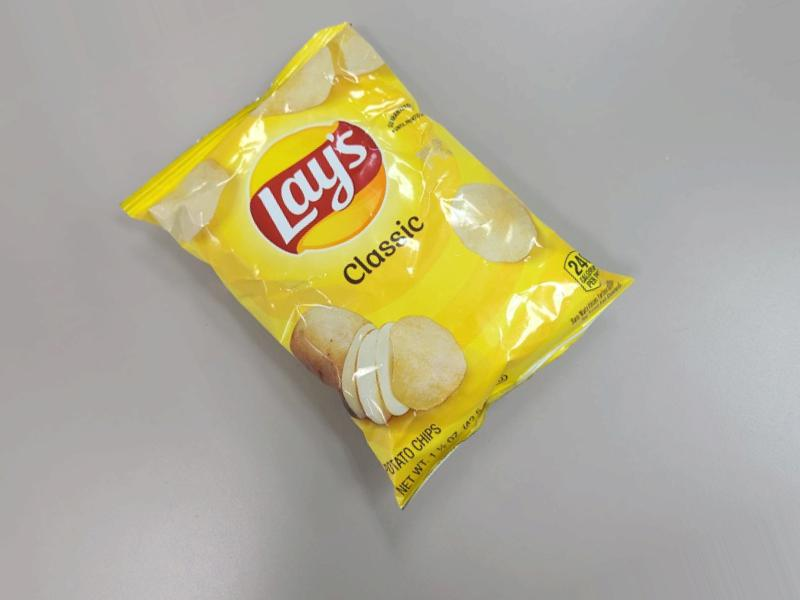lays: (217, 0, 638, 574)
